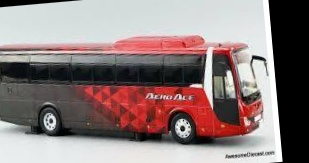bus: (0, 22, 265, 162)
